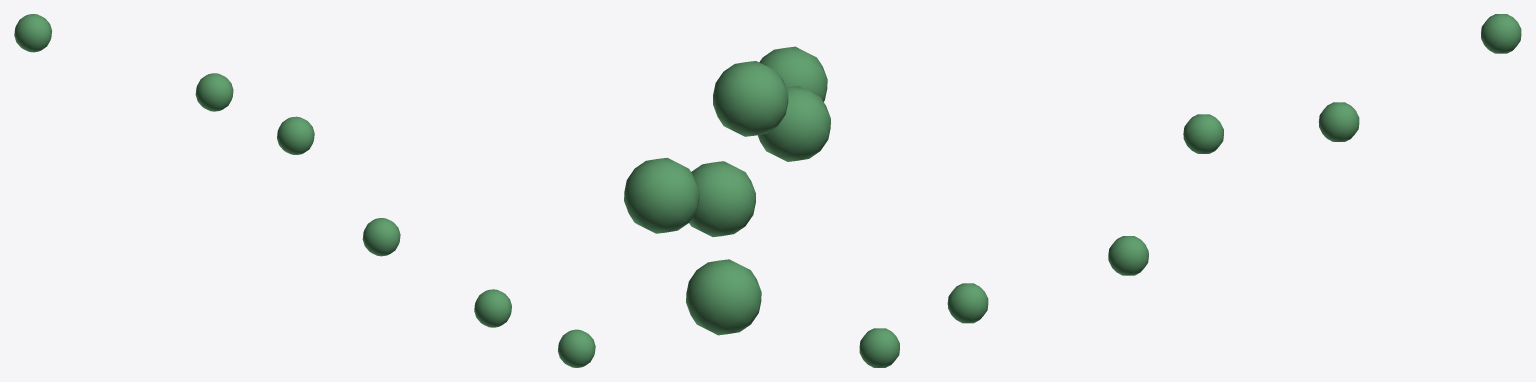
3 views of the same model, side by side, from view 1: azimuth 30°, elevation 25°; view 2: azimuth 150°, elevation 25°; view 3: azimuth 270°, elevation 25° (orthographic). The views are drawn at different scales.
Visible parts, largest first — view 1: 右侧颈外侧浅淋巴结; view 2: 右侧颈外侧浅淋巴结; view 3: 右侧颈外侧浅淋巴结.
Boxes of the visible parts, x1=… form: 右侧颈外侧浅淋巴结: x1=14, y1=14, x2=595, y2=367; 右侧颈外侧浅淋巴结: x1=624, y1=46, x2=830, y2=335; 右侧颈外侧浅淋巴结: x1=859, y1=14, x2=1521, y2=367.
Bounding box in the file's own units: 0.0332 × 0.0221 × 0.0612.
